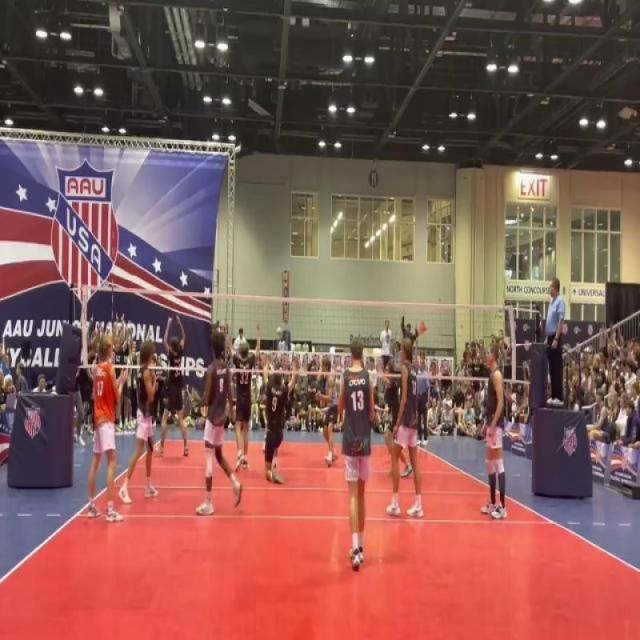volleyball: (276, 326, 282, 338)
